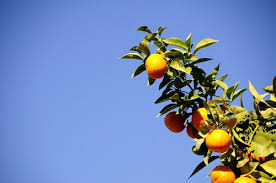orange: (189, 104, 216, 132), (208, 162, 237, 183), (142, 52, 166, 77), (205, 130, 231, 152), (163, 110, 186, 133)
